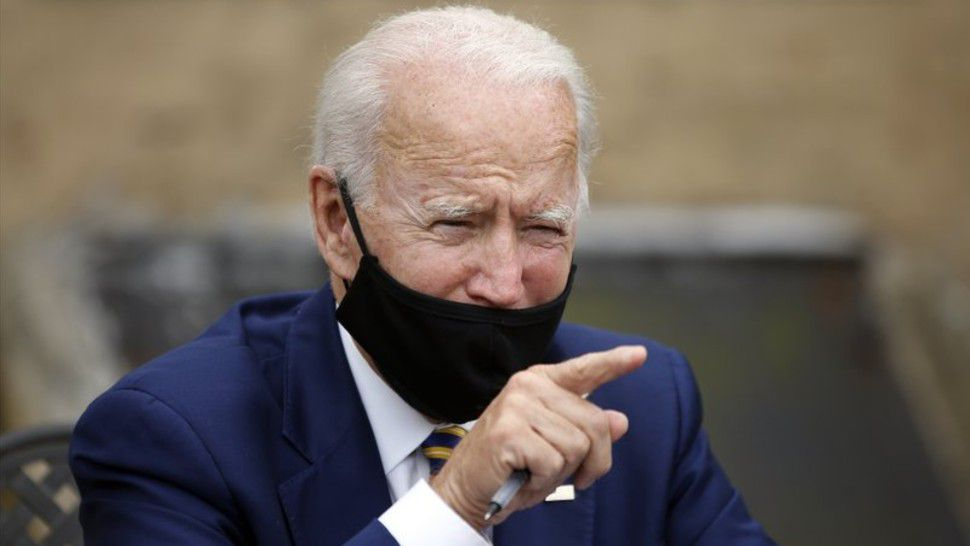with_incorrect_mask: (297, 1, 609, 426)
